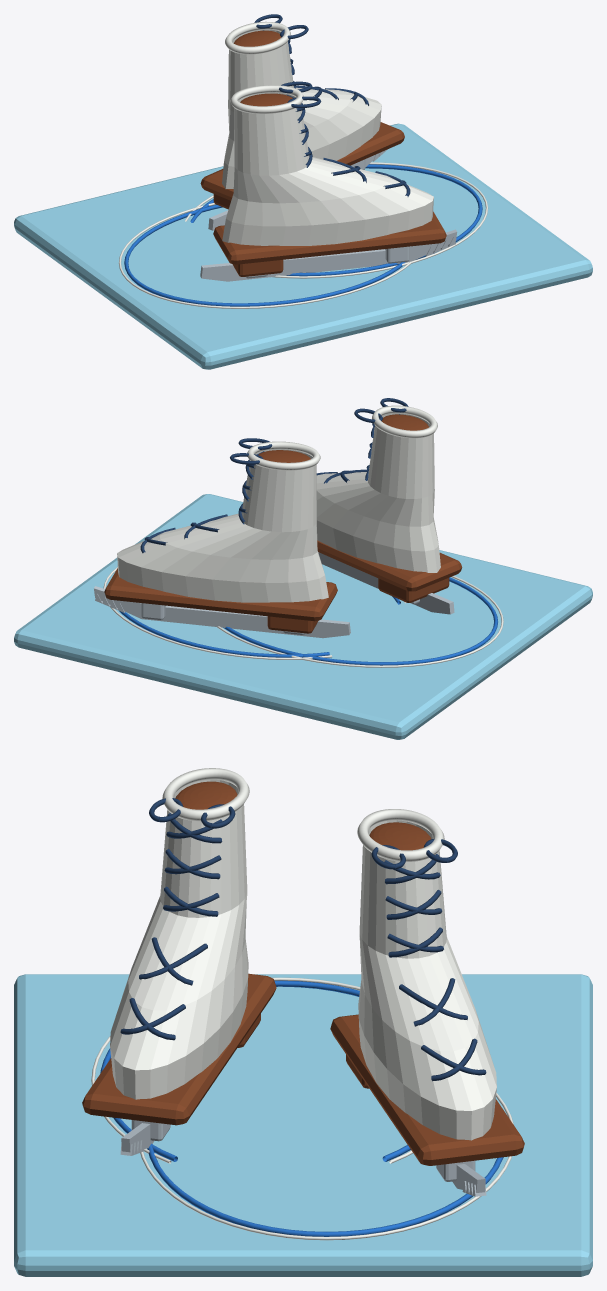
File: figure_skating_pairs.glb
3 renders of one model, top to bottom at view 1: azimuth 30°, elevation 25°; view 2: azimuth 150°, elevation 25°; view 3: azimuth 270°, elevation 25°, orthographic. The views are drawn at different scales.
Visible parts, largest first — view 1: figure_skating_pairs; view 2: figure_skating_pairs; view 3: figure_skating_pairs.
Boxes of the visible parts, bbox=[...] form: figure_skating_pairs: bbox=[14, 14, 592, 369]; figure_skating_pairs: bbox=[14, 398, 592, 739]; figure_skating_pairs: bbox=[14, 768, 592, 1276].
Bounding box in the file's own units: 0.35 × 0.1706 × 0.3.
